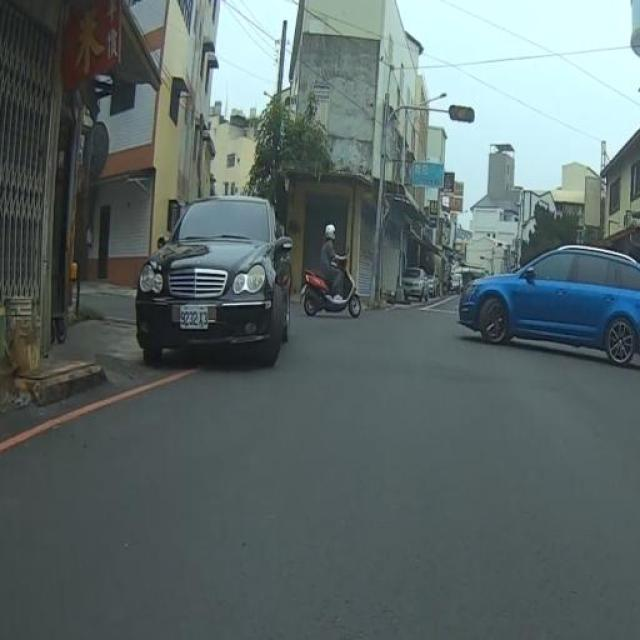illegalparking: (136, 196, 291, 365), (460, 245, 639, 365)
